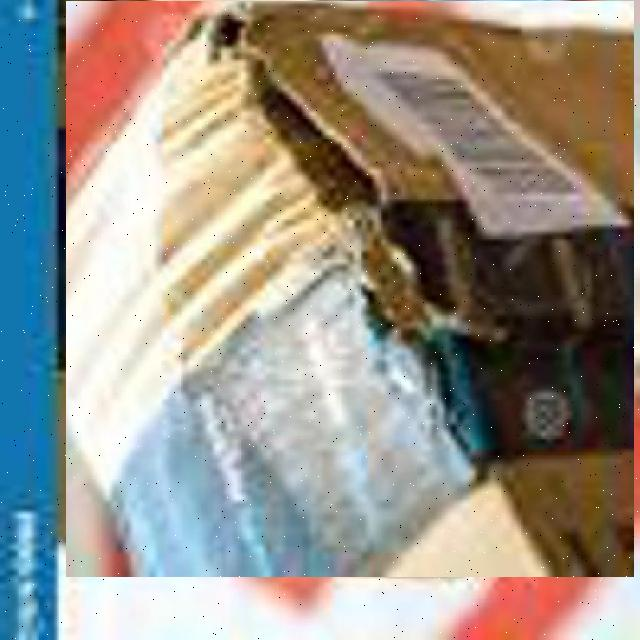defect: (66, 1, 634, 577)
